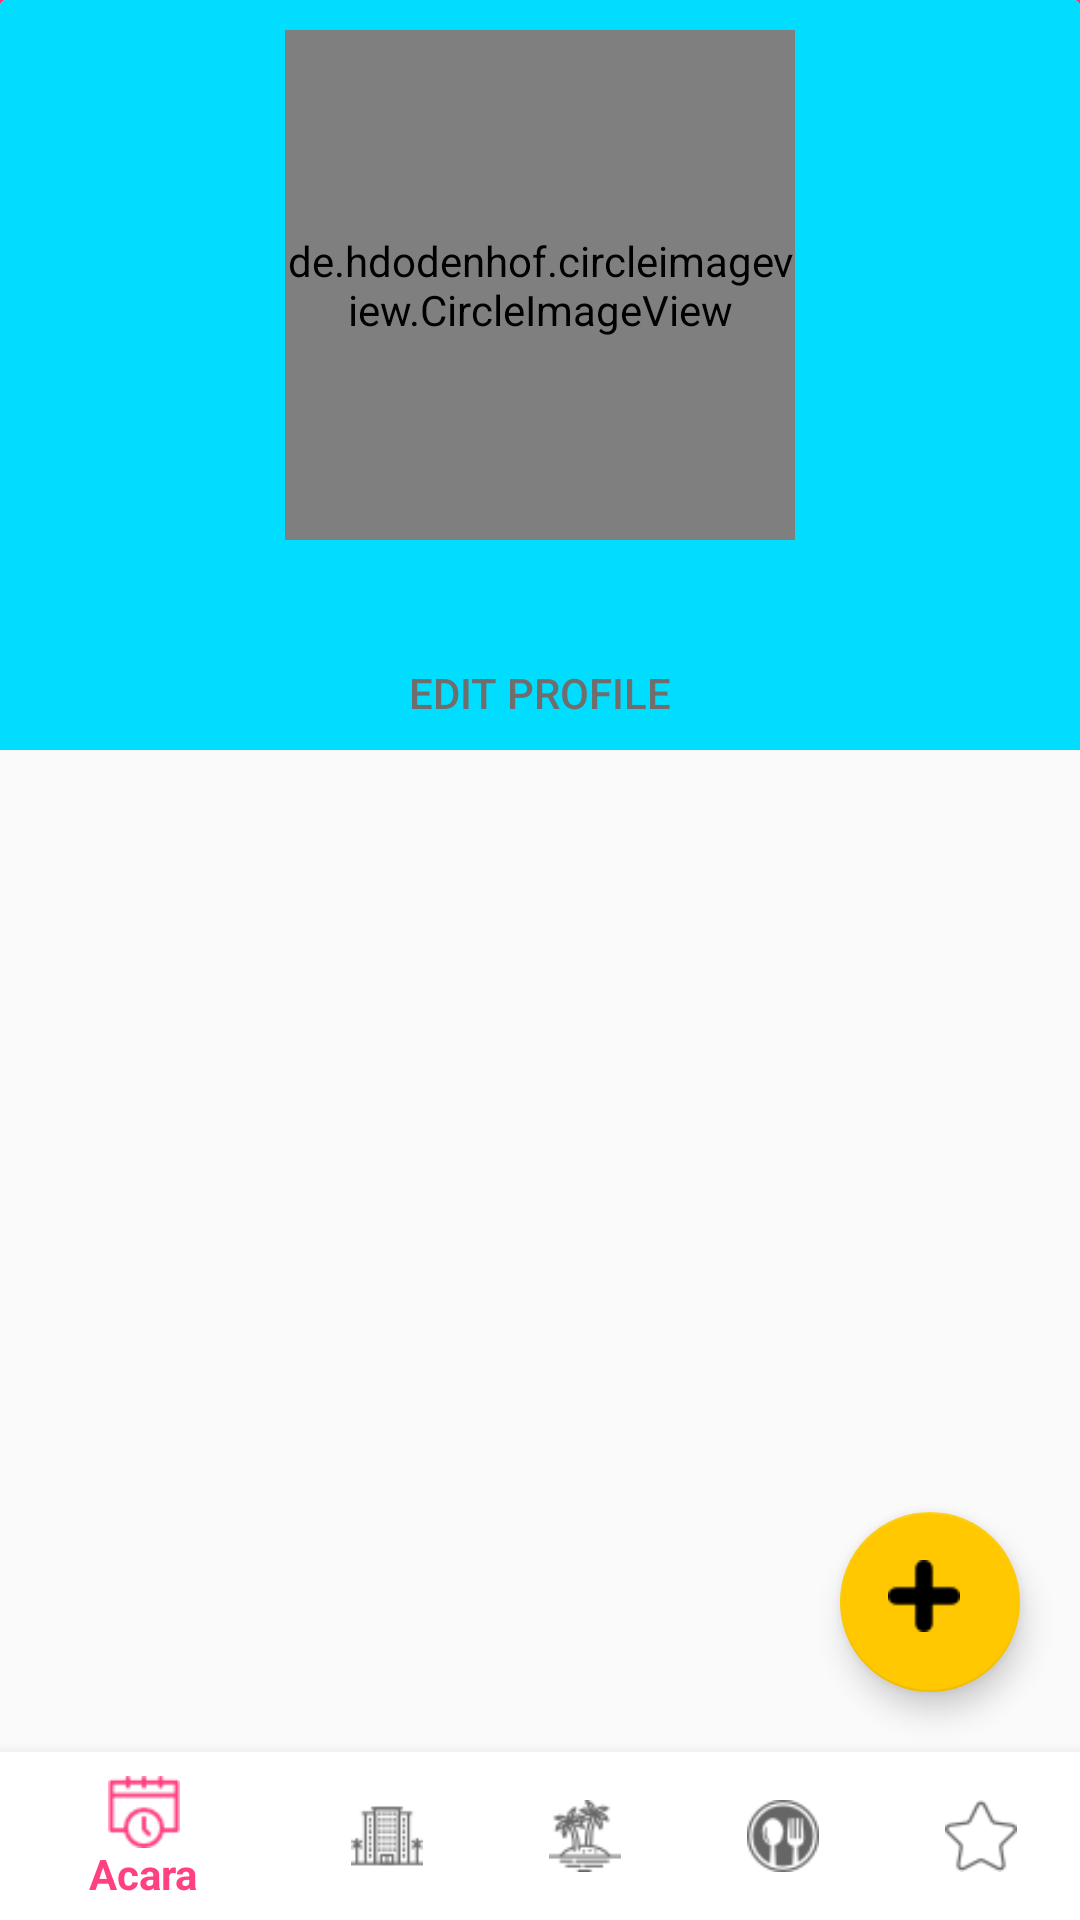

Where icons sit on this 1080w x 1920h app screen, as [x1=x1, y1=y1, x2=x2, y2=y2]:
add: [x1=840, y1=1512, x2=1020, y2=1692]
